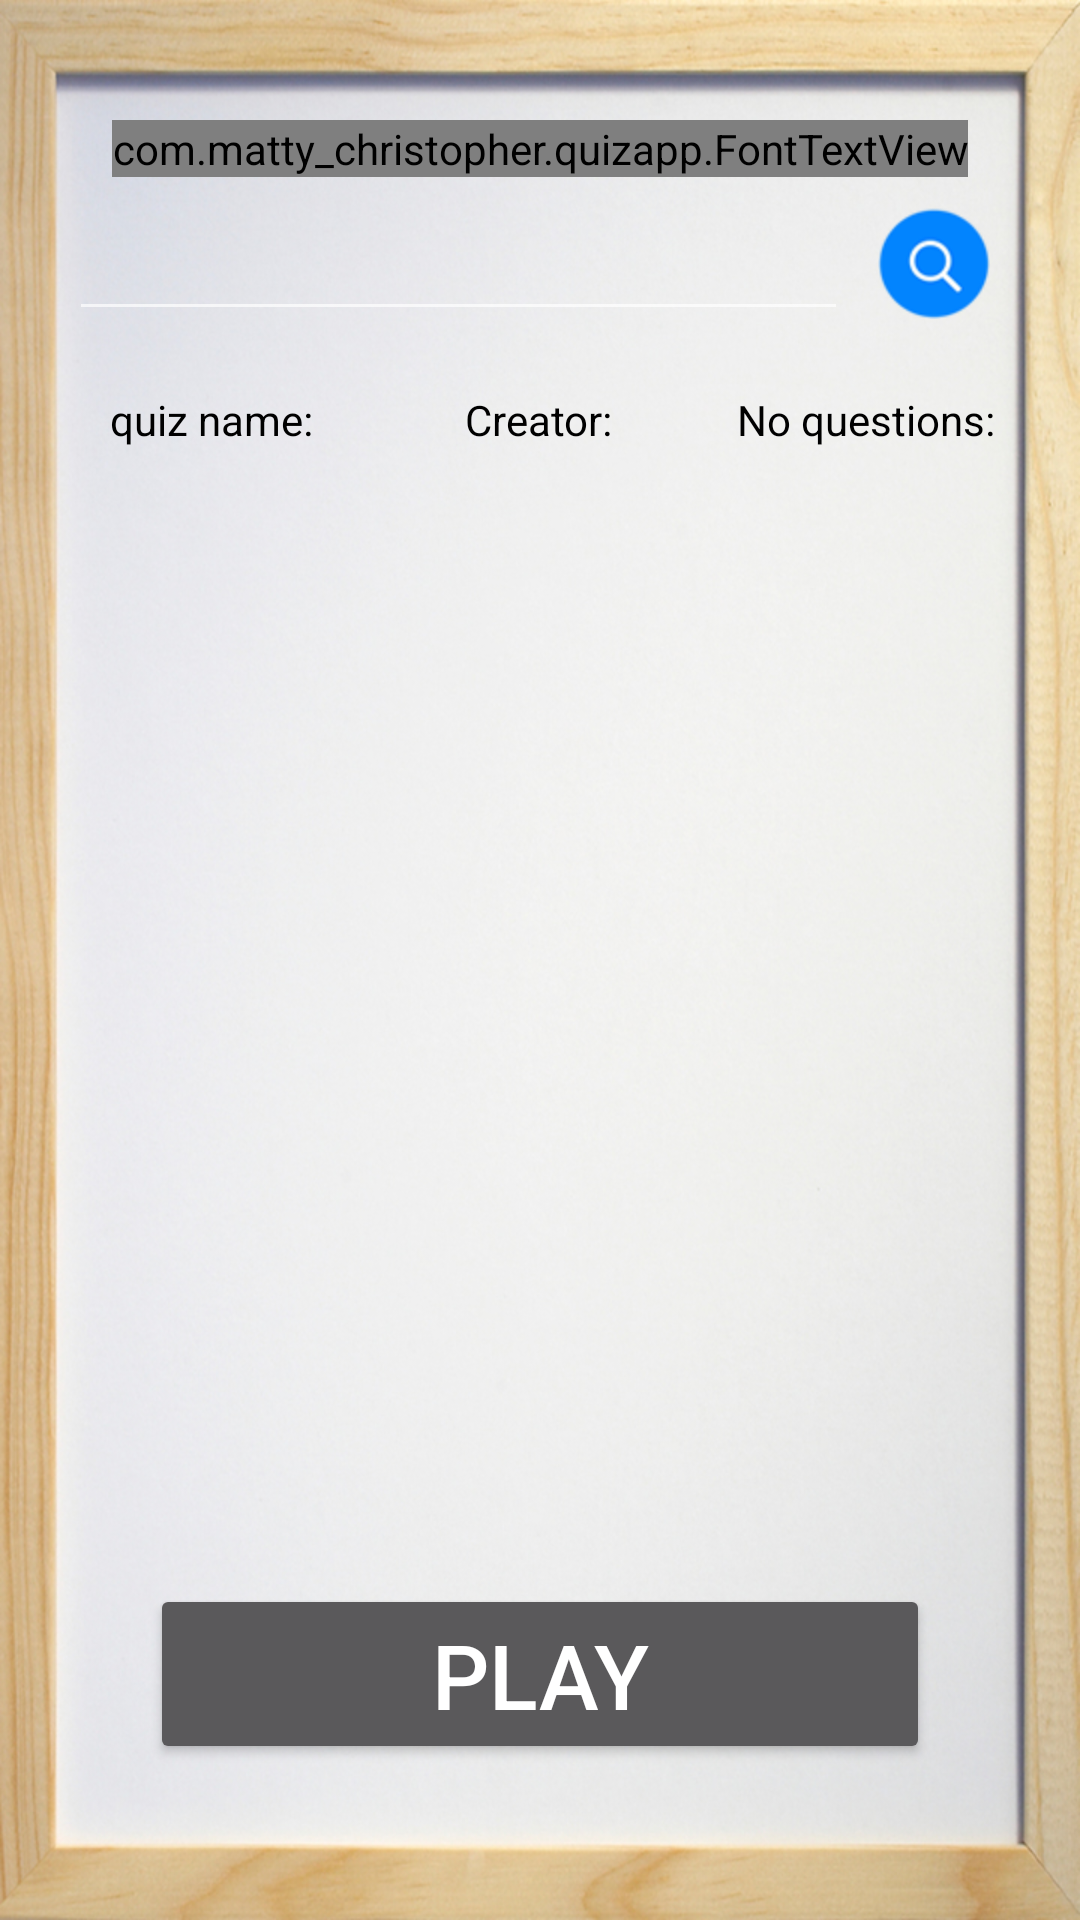

Where to tap for icons on this 1080*1920 app screen, as (x=x, y=y):
search: (x=934, y=264)
